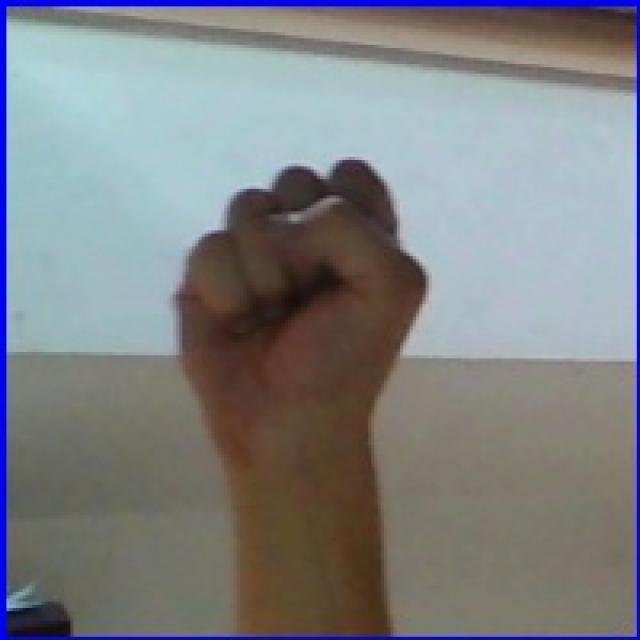Letra-S: (143, 138, 455, 516)
